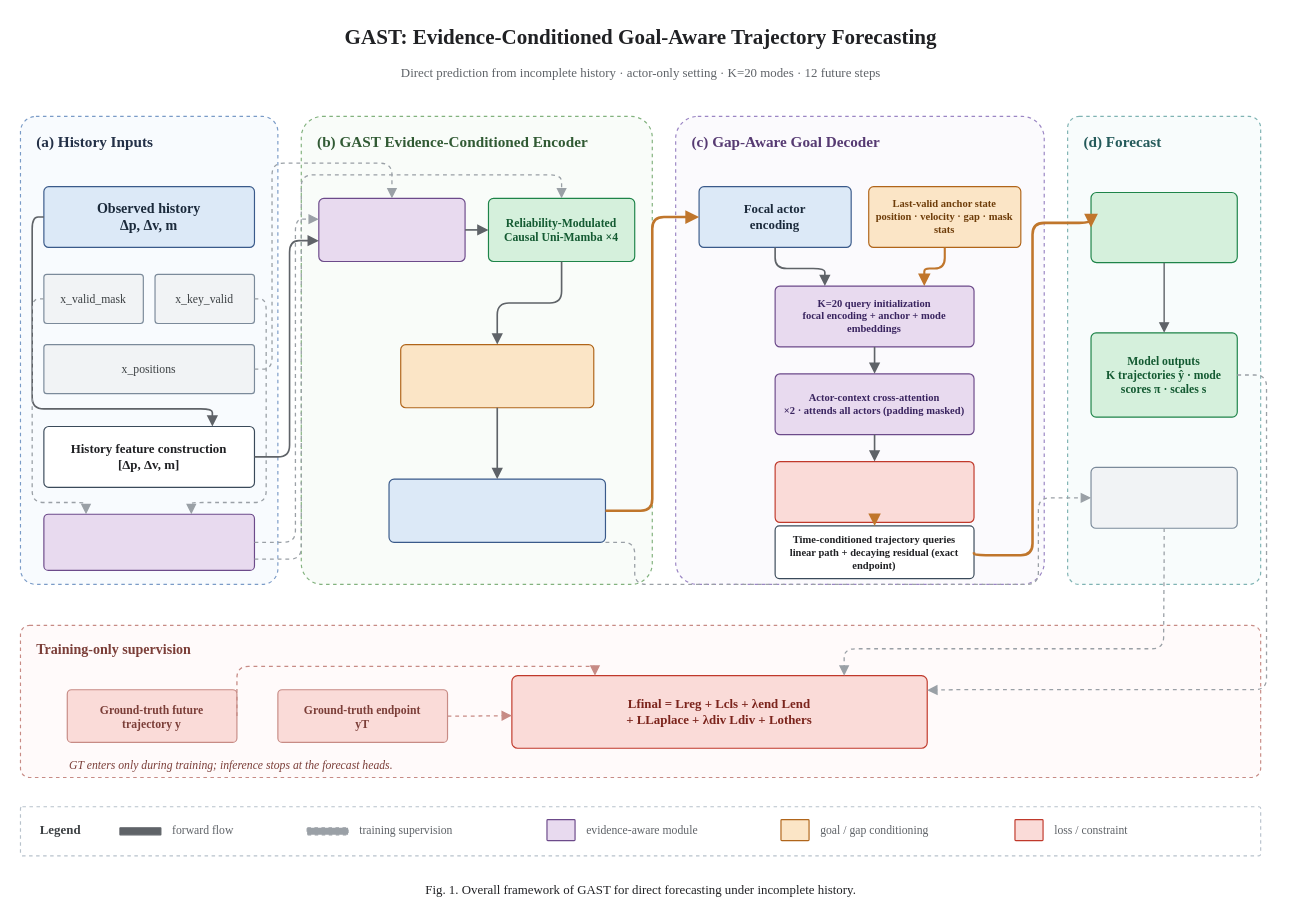
Image size: 1298x922. Some labels were removed from this diagram. Here are the shapes that lost their labels. From the top down, the centre of each, then its label:
point (391, 229): GERE geometry-biased actor attention
point (1163, 227): Prediction heads trajectory · scale · mode score
point (497, 375): EWSA evidence-weighted state aggregation
point (496, 510): GAST actor encoding [B, N, d] · focal at index 0
point (874, 491): Goal endpoint head endpoint = anchor + Δg
point (1163, 497): Neighbor prediction head ŷ_others (N−1 actors)
point (148, 541): Observation Evidence State eligibility · reliability (learnable τ)
